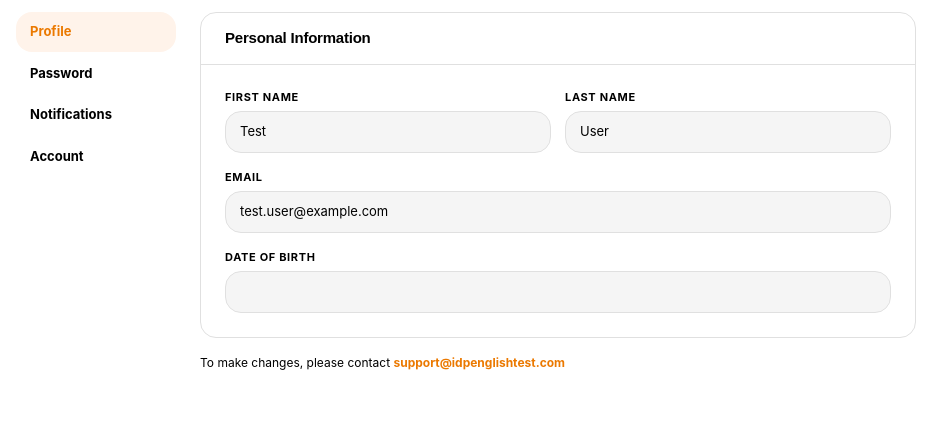
Test: Settings › Password Tab › prevents new password from being identical to current password
Click the tab "Password" at [96, 73], box top-left (16, 54), bottom-right (176, 93)
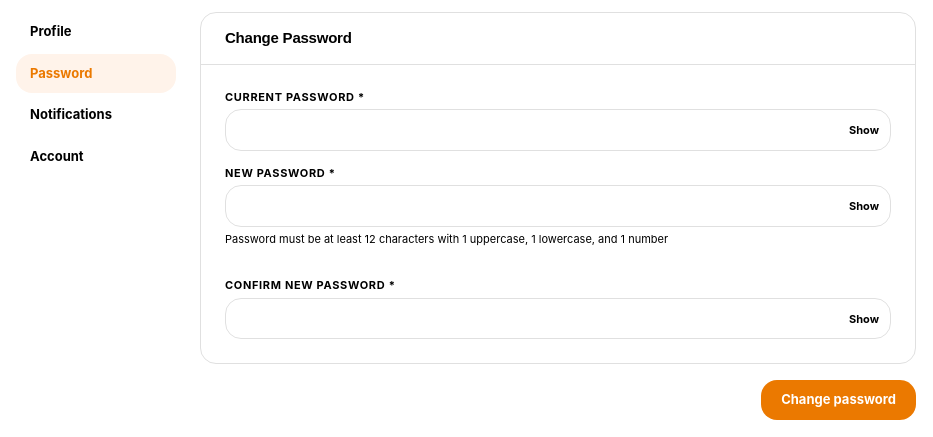
Type "SamePass123!" into the password field labelled "Current Password *" at [558, 130], box top-left (225, 109), bottom-right (891, 151)
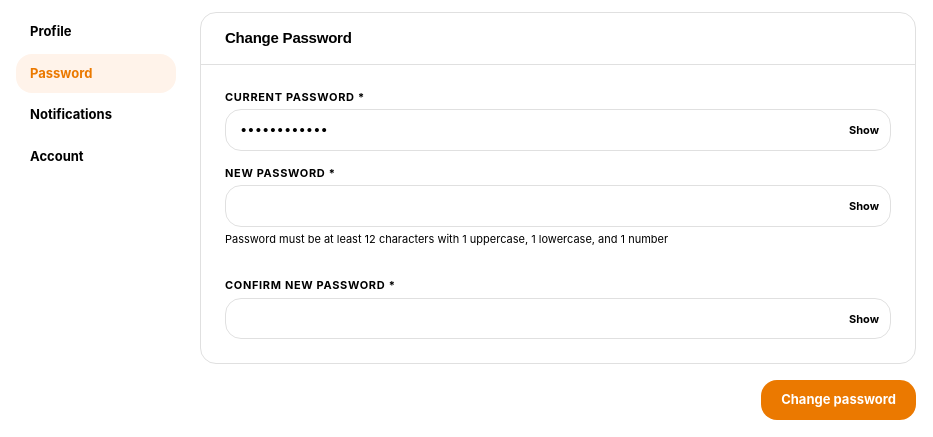
Type "SamePass123!" into the password field with id "new-password" at [558, 206], box top-left (225, 185), bottom-right (891, 227)
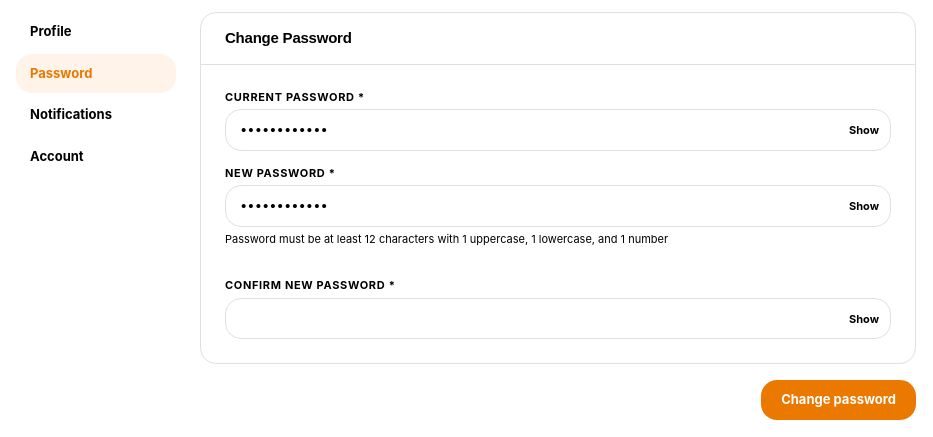
Type "SamePass123!" into the password field labelled "Confirm New Password *" at [558, 319], box top-left (225, 298), bottom-right (891, 339)
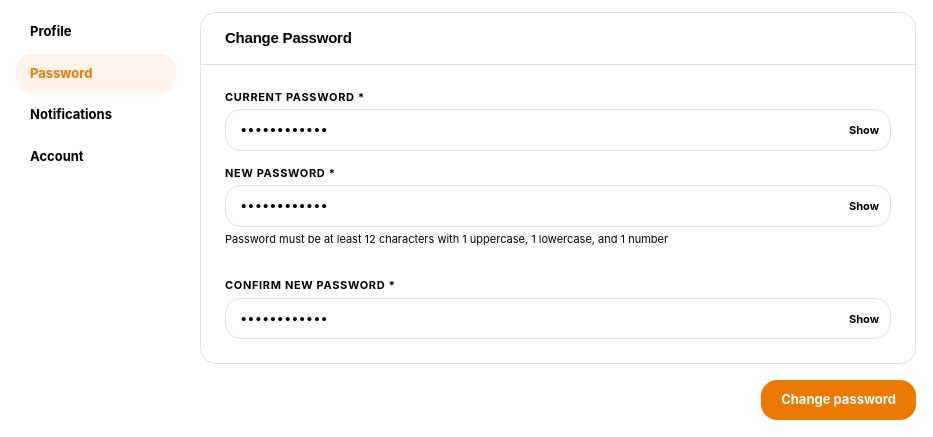
Click the button "Change password" at [839, 400], box top-left (761, 380), bottom-right (916, 420)
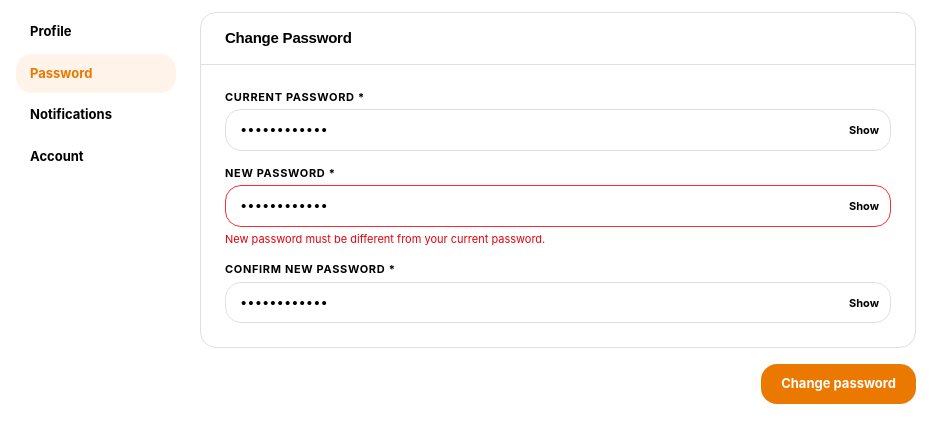
Now the text "New password must be different from your current password." is shown, box top-left (225, 232), bottom-right (545, 246)
